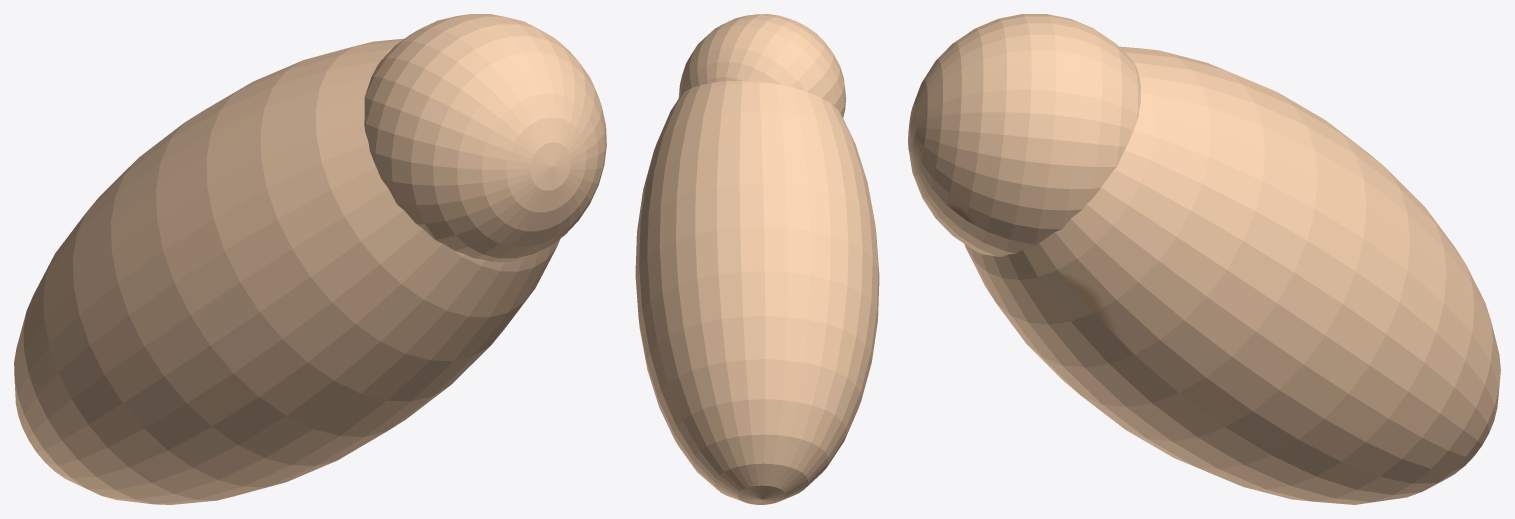
Rendered from AntebrazoDer_Arbitro.obj.
3 views of the same model, side by side, from view 1: azimuth 30°, elevation 25°; view 2: azimuth 150°, elevation 25°; view 3: azimuth 270°, elevation 25° (orthographic). The views are drawn at different scales.
Parts seen in each view (by area): view 1: AntebrazoDer_Arbitro; view 2: AntebrazoDer_Arbitro; view 3: AntebrazoDer_Arbitro.
Part boxes in pixels (x1,y1,x2,y2): AntebrazoDer_Arbitro: [14, 14, 606, 504]; AntebrazoDer_Arbitro: [635, 14, 879, 504]; AntebrazoDer_Arbitro: [908, 14, 1500, 504].
Bounding box in the file's own units: 1.2 × 1.61 × 1.59.
1 material, 1 textured.
